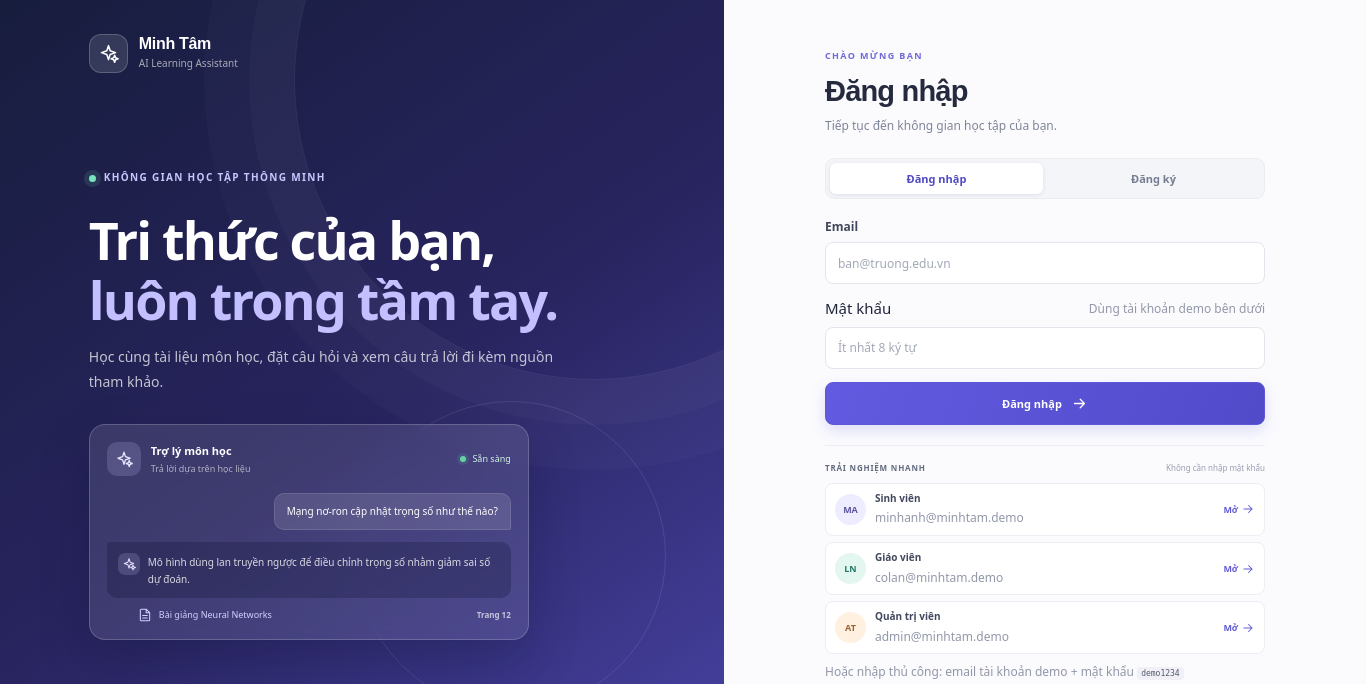
Test: role-based demo routes › shows the admin evaluation demo route and its synthetic disclosure
The image size is (1366, 684).
Click the button "AT Quản trị viên admin@minhtam.demo Mở".
click(850, 628)  # box [825,601,1265,654]
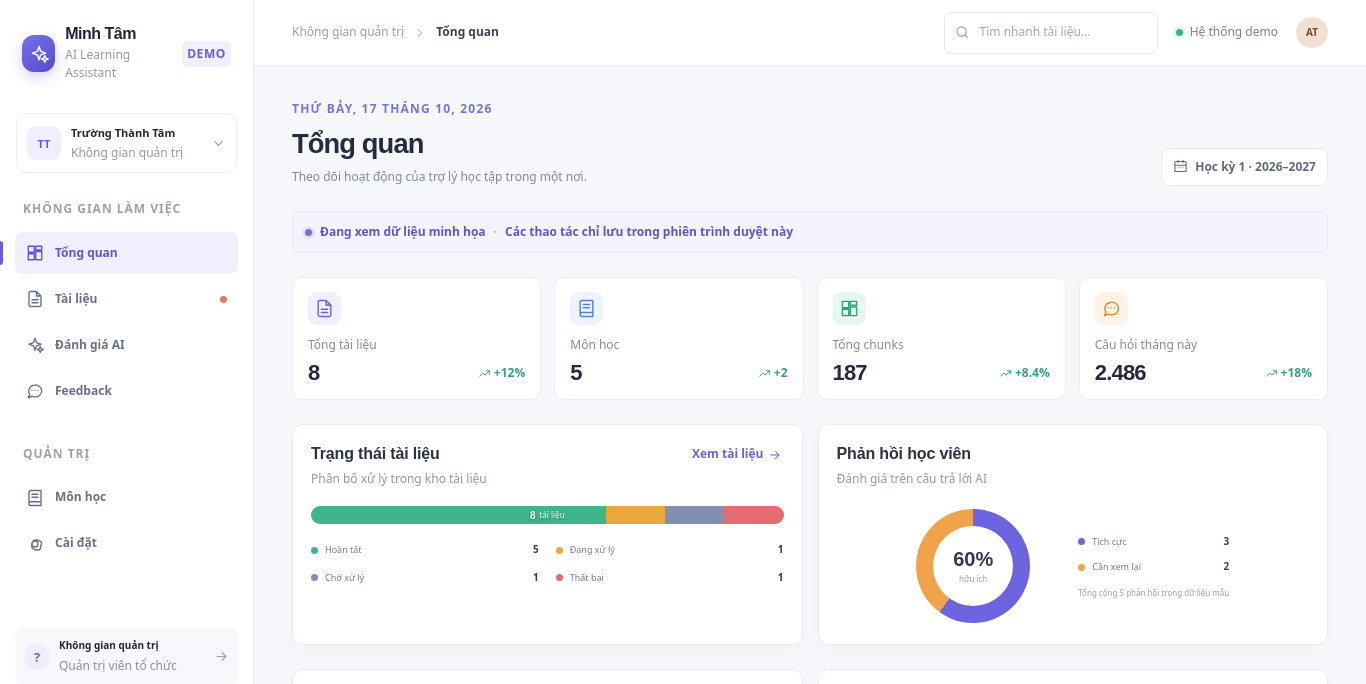
Click the button "Đánh giá AI".
click(126, 345)  # box [15,324,238,366]
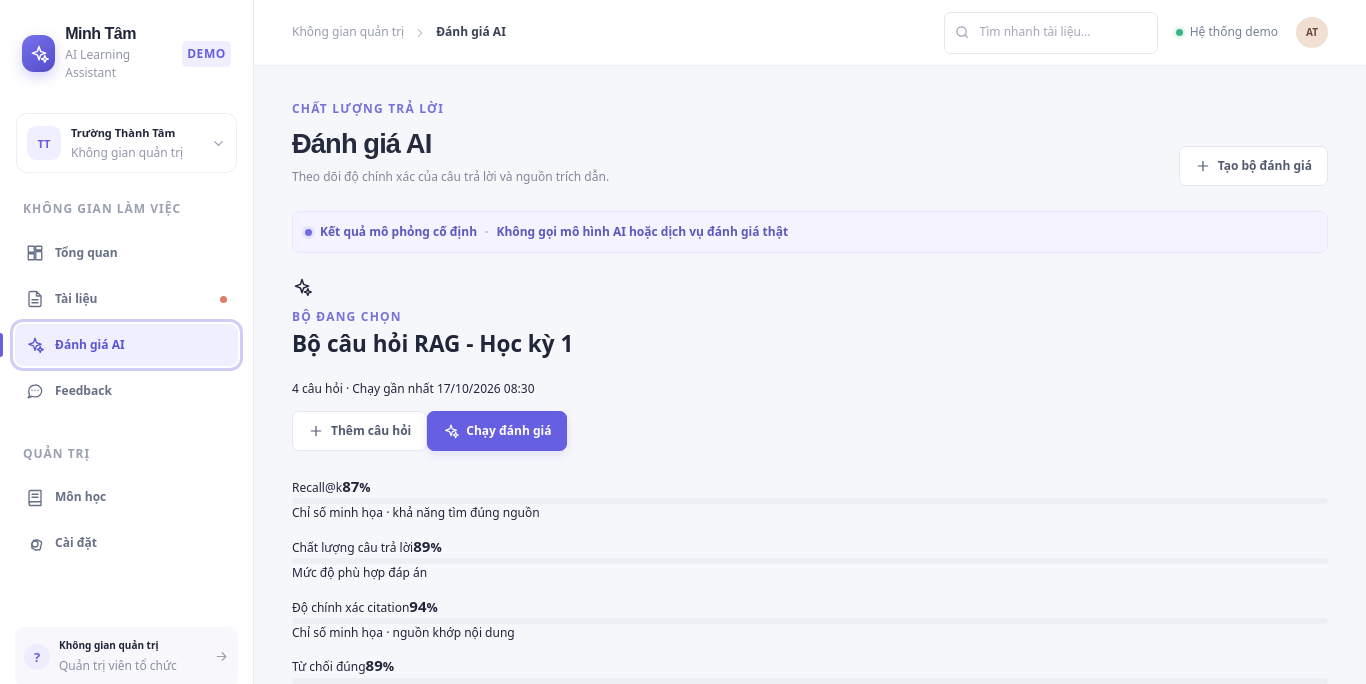
Check: the heading "Đánh giá AI" is shown, box [292,128,431,159]
Check: the text "Không gọi mô hình AI hoặc dịch vụ đánh giá thật" is shown, box [496,223,788,240]
